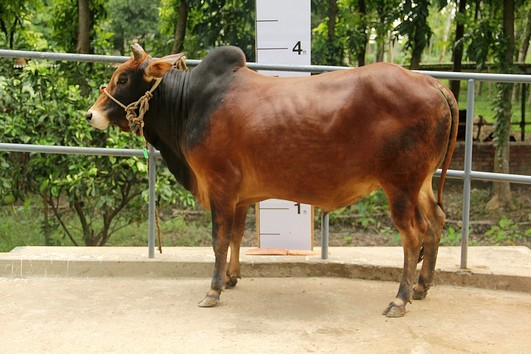cow: (81, 37, 463, 325)
